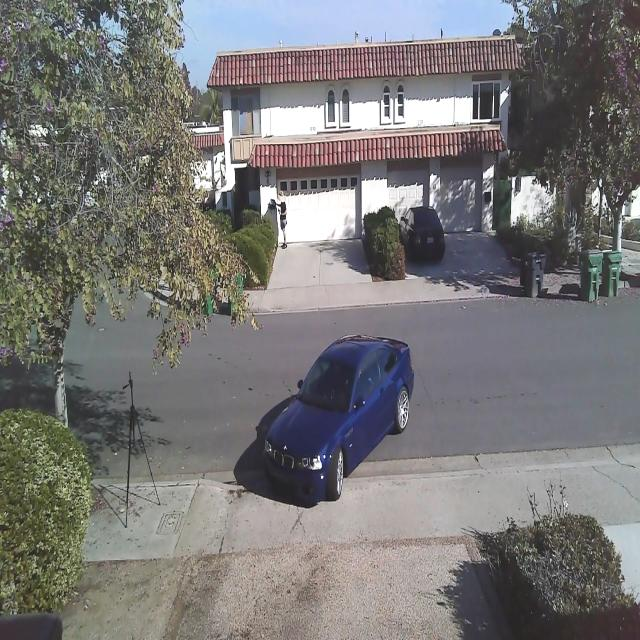Carbeetle: (244, 325, 426, 519)
Civilian: (399, 205, 445, 263)
